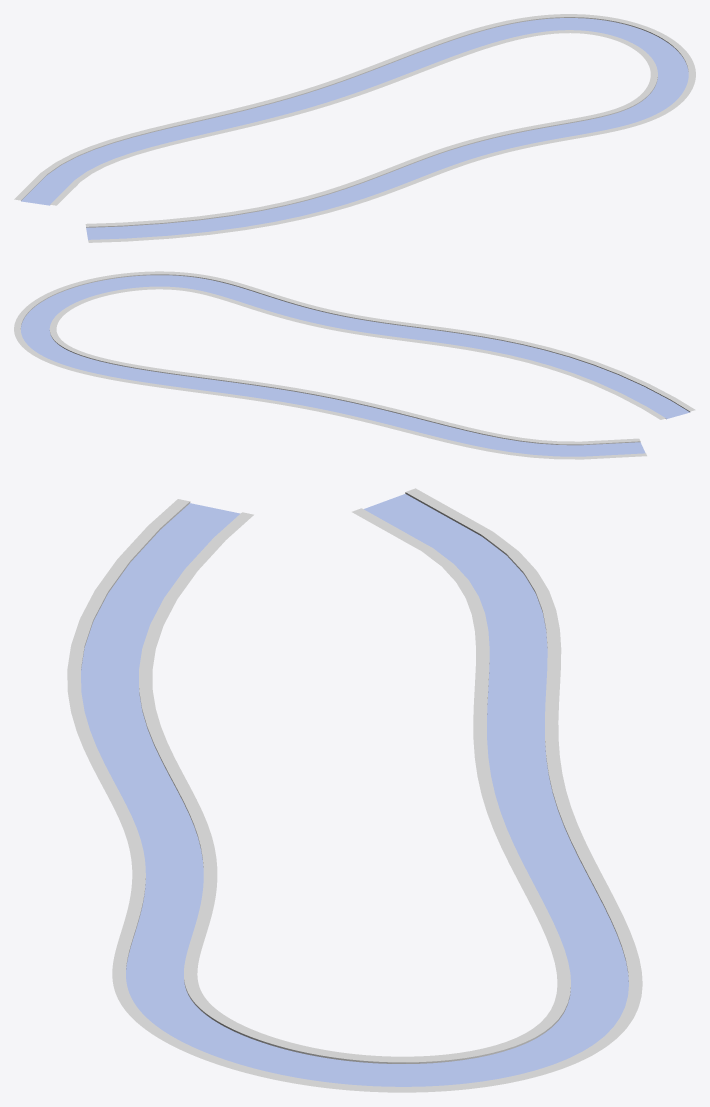
File: villa_road .fbx
3 views of the same model, one above another, from view 1: azimuth 30°, elevation 25°; view 2: azimuth 150°, elevation 25°; view 3: azimuth 270°, elevation 25° (orthographic). The views are drawn at different scales.
Parts seen in each view (by area): view 1: Plane.003; view 2: Plane.003; view 3: Plane.003.
Boxes of the visible parts, left/top/right/bottom form: Plane.003: left=14, top=14, right=695, bottom=242; Plane.003: left=14, top=271, right=695, bottom=459; Plane.003: left=67, top=488, right=642, bottom=1092.
Bounding box in the file's own units: 16307 × 21.45 × 6559.
